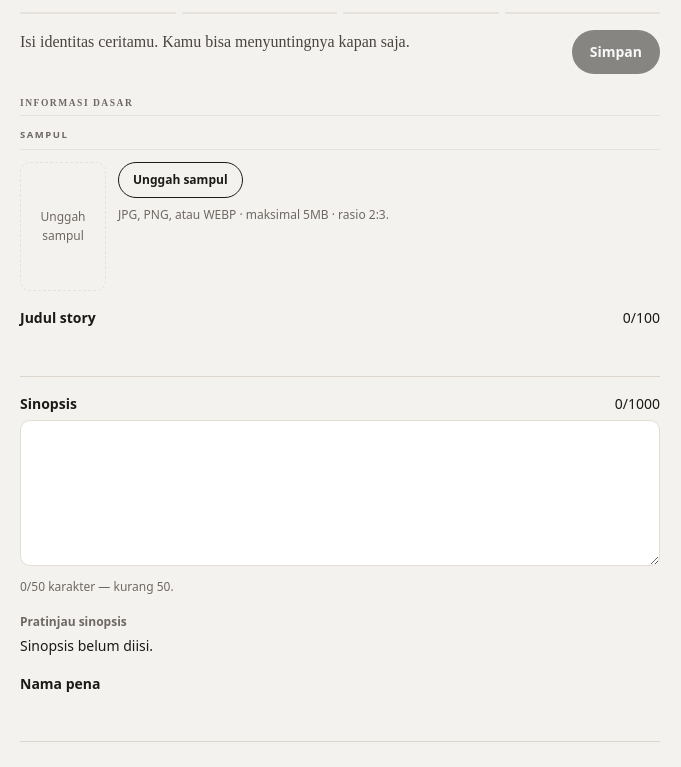
Test: penanda perubahan & penghitung · FR-STUDIO-12 › penghitung judul dan sinopsis berubah saat mengetik
This screenshot has width=681, height=767.
Step 1. Type "Dua Puluh Lima Karakter!" into the field labelled "Judul story" → (340, 356), box [20,335,660,377]
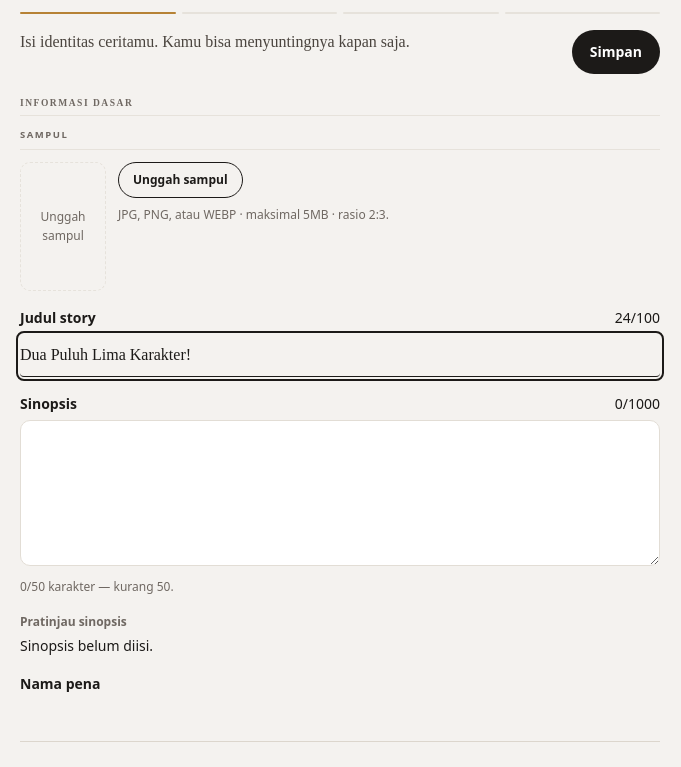
Check: the text "24/100" is shown, box [615,308,660,327]
Step 2. Type "Baru sedikit" into the text box labelled "Sinopsis" → (340, 493), box [20,420,660,566]
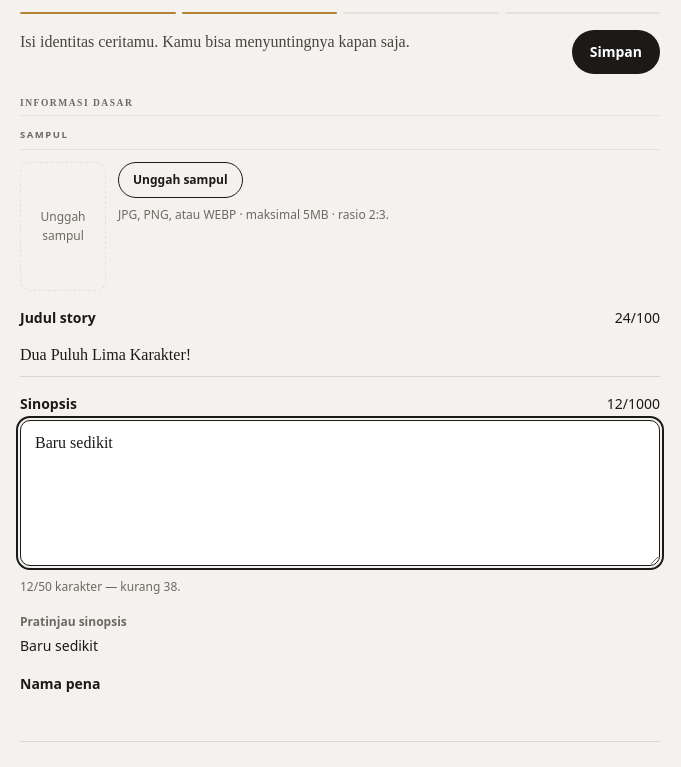
Check: the text "12/50 karakter — kurang 38." is shown, box [20,578,180,595]
